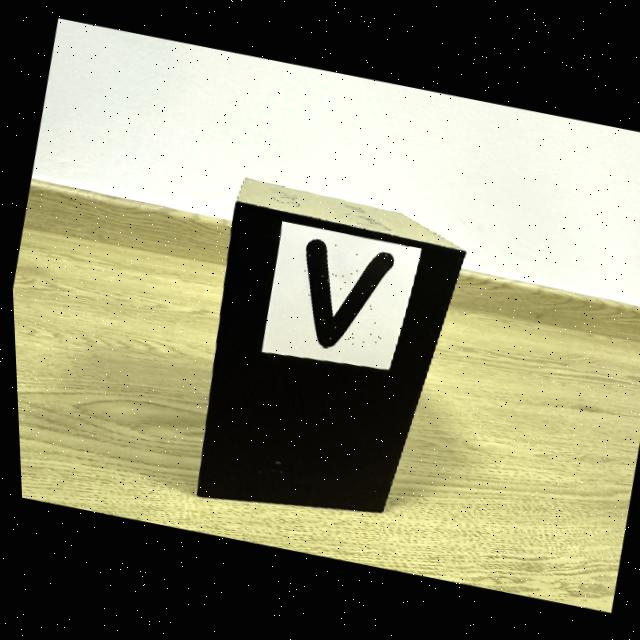V: (303, 240, 391, 349)
